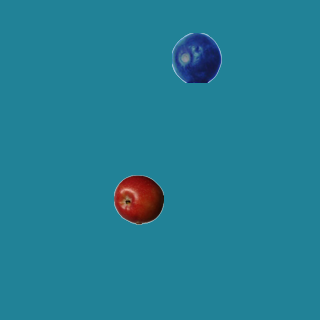Apple Braeburn: (113, 174, 163, 224)
Huckleberry: (171, 32, 221, 82)
